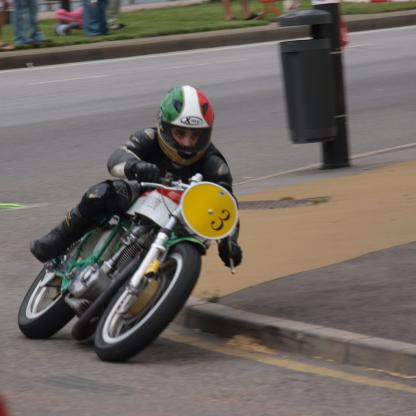Helmet: (150, 86, 211, 162)
